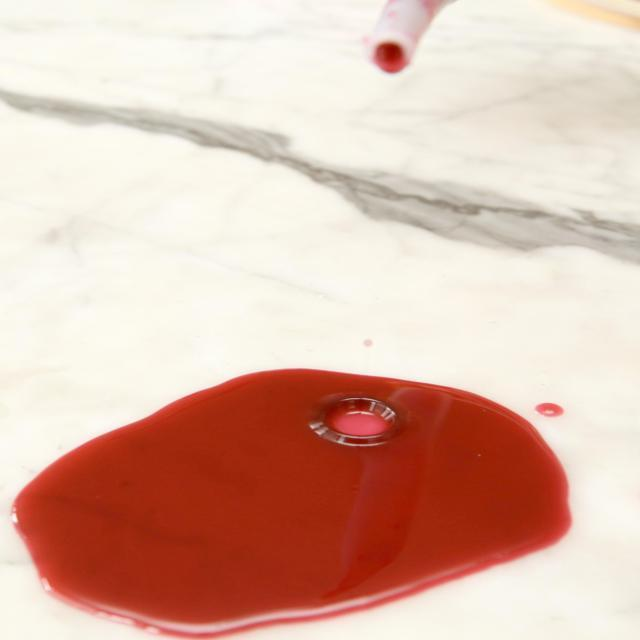Bloodstain-Detection: (92, 397, 518, 554)
